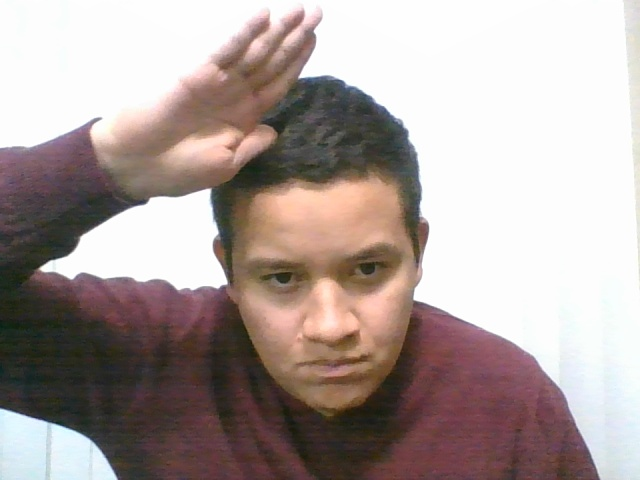Dad: (53, 1, 375, 228)
